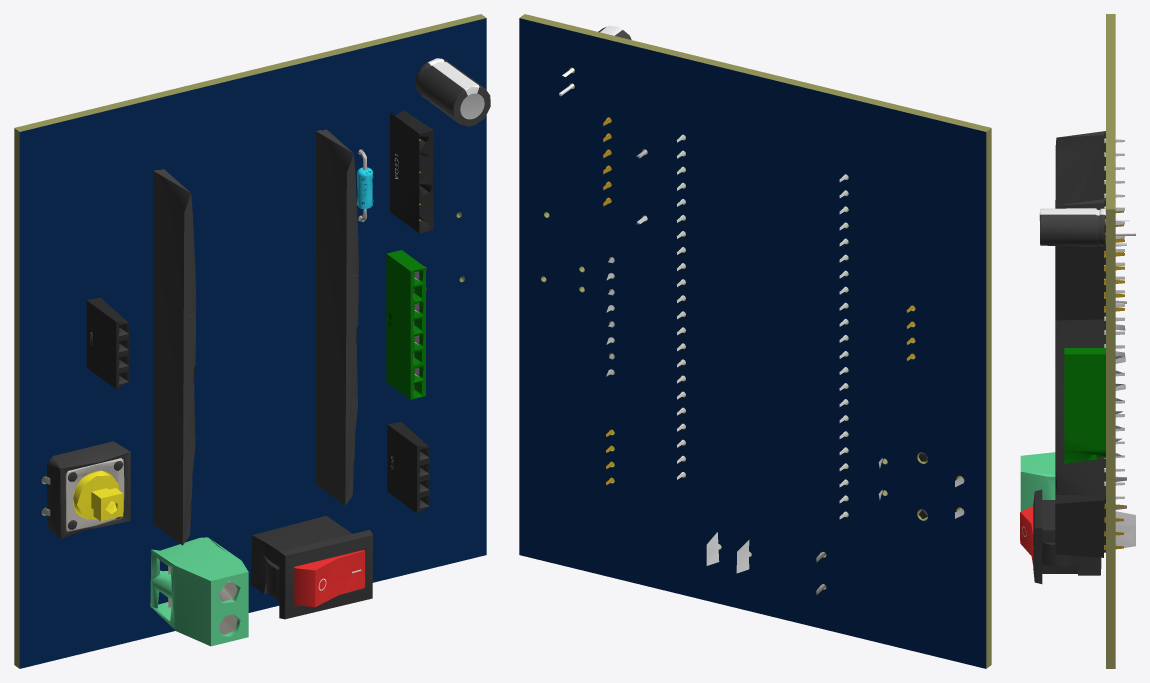
Rendered from pole_3d.obj.
3 renders of one model, left to right at view 1: azimuth 30°, elevation 25°; view 2: azimuth 150°, elevation 25°; view 3: azimuth 270°, elevation 25°, orthographic. The views are drawn at different scales.
Size of the model in its own units: 77.32 by 84.94 by 19.37.
